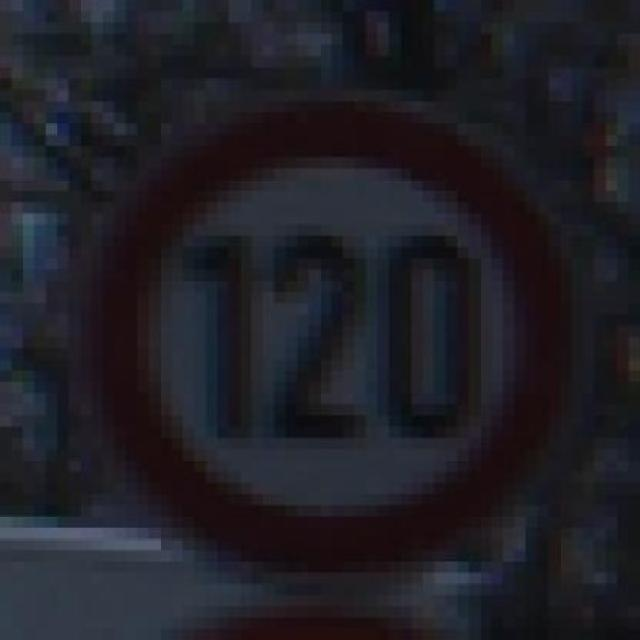forb_speed_over_120: (90, 105, 568, 569)
